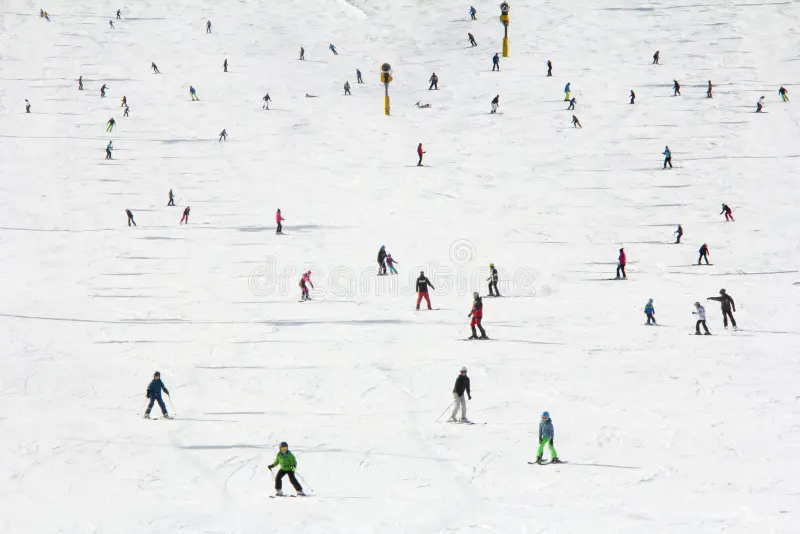skier: (259, 434, 320, 504), (435, 360, 488, 436), (527, 407, 570, 470), (139, 364, 184, 424), (462, 287, 495, 345), (683, 299, 716, 341), (637, 296, 669, 329), (407, 138, 433, 172), (716, 198, 742, 225), (174, 200, 196, 230), (271, 205, 291, 237), (659, 143, 677, 171), (257, 90, 275, 111), (145, 62, 169, 76), (216, 127, 232, 143)
snowboarder: (406, 267, 443, 313), (290, 265, 325, 306), (688, 236, 718, 269), (117, 207, 143, 229), (424, 71, 444, 92), (96, 81, 112, 99)
